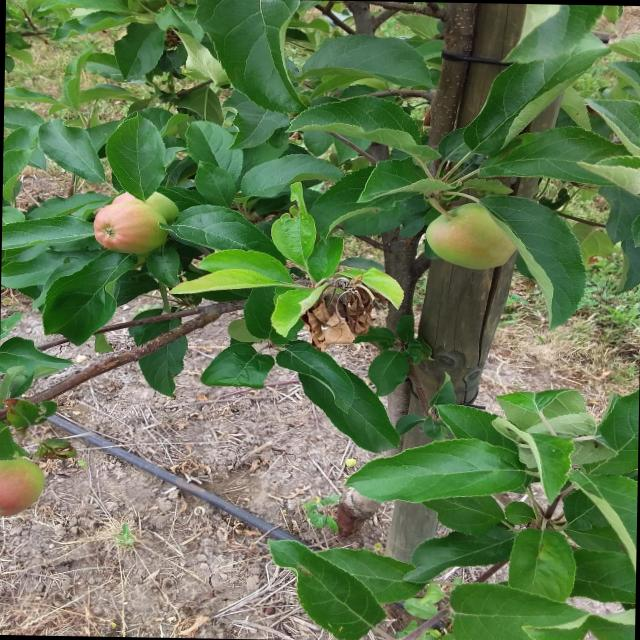-FireBlight-: (302, 268, 393, 362)
